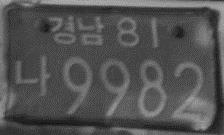1: (147, 14, 163, 50)
2: (168, 60, 211, 125)
8: (137, 58, 167, 118), (115, 15, 141, 48)
9: (97, 55, 132, 119), (60, 53, 94, 118)
경남_O: (46, 14, 106, 48)
나: (12, 52, 53, 98)
